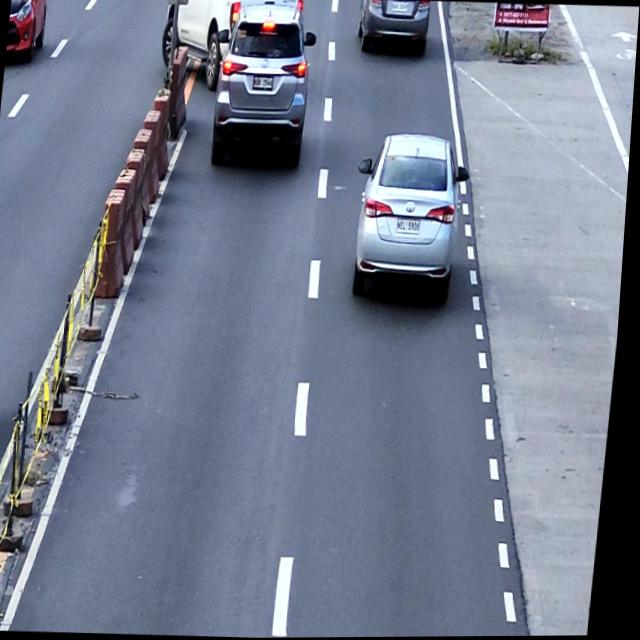Car: (350, 130, 476, 308), (207, 7, 322, 172), (156, 0, 304, 93), (355, 0, 432, 59), (5, 0, 49, 64)
License-Plate: (399, 217, 424, 235), (252, 75, 274, 89), (390, 0, 408, 12)
